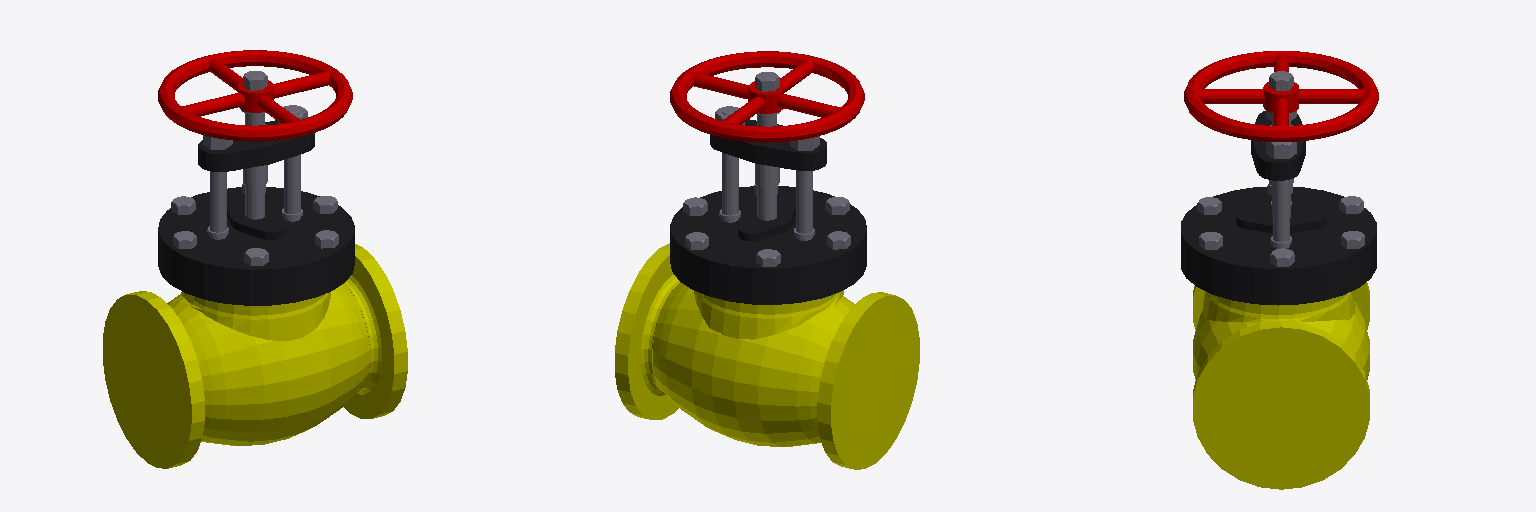
File: valve3.obj
The picture shows the model from 3 angles: view 1: azimuth 30°, elevation 25°; view 2: azimuth 150°, elevation 25°; view 3: azimuth 270°, elevation 25°; orthographic projection.
Visible parts, largest first — view 1: Cylinder, Cylinder.002, Cylinder.006, BezierCircle, Cylinder.005, Cube.001, Cylinder.007, Bolt.008, Cylinder.011, Bolt.006, Cylinder.003, Cube (+2 smaller); view 2: Cylinder.002, Cylinder, Cylinder.006, BezierCircle, Cylinder.005, Cube.001, Bolt.008, Cylinder.011, Bolt.006, Cylinder.003, Cube, Bolt.007 (+1 smaller); view 3: Cylinder, Cylinder.006, BezierCircle, Cylinder.005, Cylinder.002, Cylinder.001, Bolt.007, Cube.001, Cube, Bolt.008, Cylinder.007, Cylinder.011.
Part boxes in pixels (bbox=[...]): Cylinder: bbox=[103, 244, 407, 468]; Cylinder.002: bbox=[167, 284, 369, 445]; Cylinder.006: bbox=[158, 187, 354, 305]; BezierCircle: bbox=[158, 50, 352, 141]; Cylinder.005: bbox=[181, 292, 330, 341]; Cube.001: bbox=[198, 120, 314, 171]; Cylinder.007: bbox=[190, 200, 319, 253]; Bolt.008: bbox=[238, 71, 273, 219]; Cylinder.011: bbox=[182, 71, 329, 116]; Bolt.006: bbox=[203, 135, 232, 239]; Cylinder.003: bbox=[344, 275, 381, 394]; Cube: bbox=[227, 198, 283, 239]; Cylinder.002: bbox=[653, 283, 854, 446]; Cylinder: bbox=[615, 243, 919, 469]; Cylinder.006: bbox=[670, 186, 866, 304]; BezierCircle: bbox=[670, 51, 864, 142]; Cylinder.005: bbox=[694, 290, 843, 339]; Cube.001: bbox=[710, 119, 826, 170]; Bolt.008: bbox=[748, 72, 783, 220]; Cylinder.011: bbox=[693, 72, 840, 117]; Bolt.006: bbox=[790, 136, 819, 240]; Cylinder.003: bbox=[641, 274, 680, 395]; Cube: bbox=[738, 199, 795, 240]; Bolt.007: bbox=[715, 106, 744, 222]; Cylinder: bbox=[1193, 282, 1369, 489]; Cylinder.006: bbox=[1181, 186, 1376, 305]; BezierCircle: bbox=[1184, 51, 1378, 141]; Cylinder.005: bbox=[1203, 291, 1354, 322]; Cylinder.002: bbox=[1193, 301, 1369, 379]; Cylinder.001: bbox=[1196, 89, 1365, 103]; Bolt.007: bbox=[1266, 142, 1296, 248]; Cube.001: bbox=[1251, 111, 1305, 180]; Cube: bbox=[1236, 206, 1325, 233]; Bolt.008: bbox=[1263, 71, 1298, 217]; Cylinder.007: bbox=[1217, 204, 1345, 251]; Cylinder.011: bbox=[1274, 54, 1288, 125].
Size of the model in its own units: 0.1001 by 0.1598 by 0.0794.